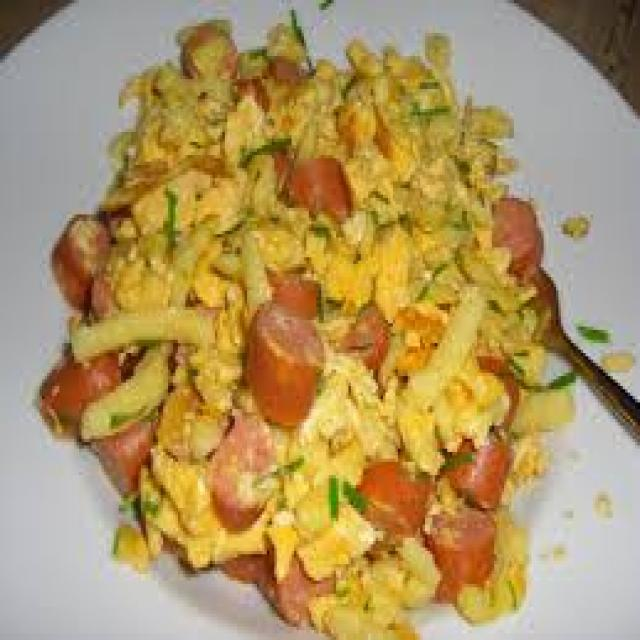food_waste: (40, 13, 571, 637)
